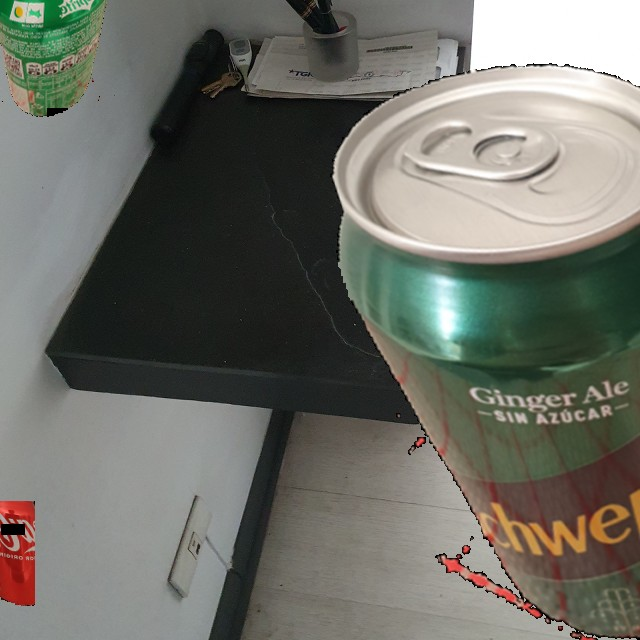coca cola: (0, 501, 35, 607)
schweppes: (287, 19, 640, 640)
sprite: (0, 0, 115, 127)
